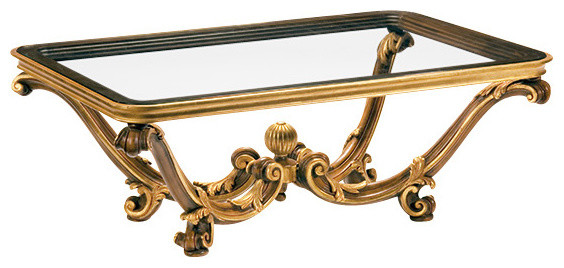Carving Table: (28, 17, 506, 268)
